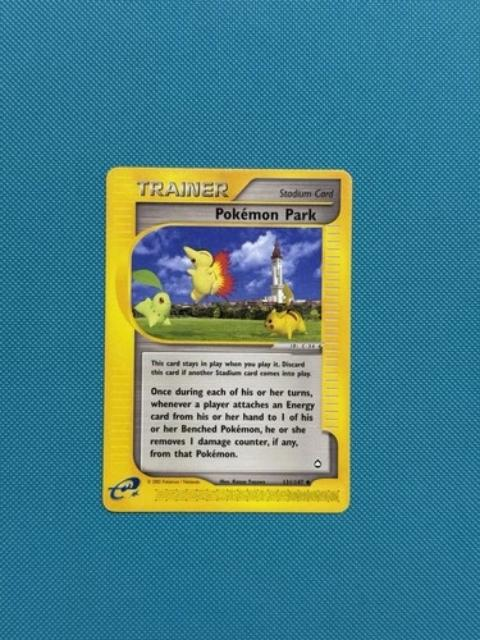Card: (99, 163, 355, 518)
Name: (209, 204, 323, 225)
